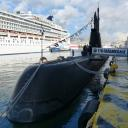submarine: (5, 2, 110, 124)
